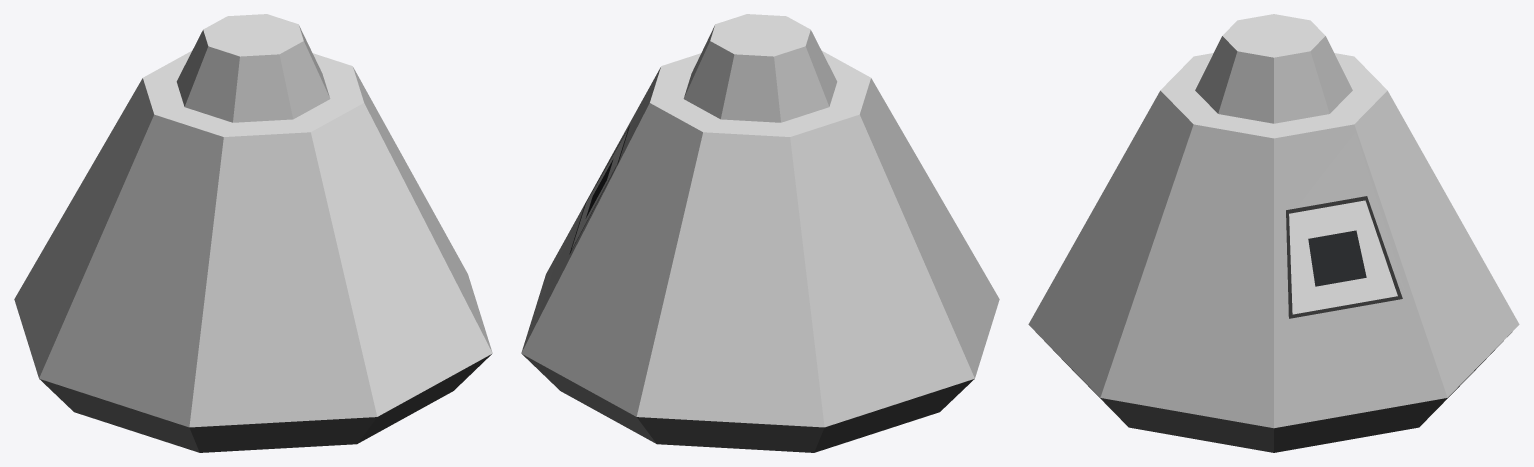
Rendered from SM_Veh_LandingPod_01.fbx.
3 renders of one model, left to right at view 1: azimuth 30°, elevation 25°; view 2: azimuth 150°, elevation 25°; view 3: azimuth 270°, elevation 25°, orthographic.
Visible parts, largest first — view 1: SM_Veh_LandingPod_01; view 2: SM_Veh_LandingPod_01; view 3: SM_Veh_LandingPod_01.
Boxes of the visible parts, <box> form: SM_Veh_LandingPod_01: <box>14,14,492,452</box>; SM_Veh_LandingPod_01: <box>521,14,999,452</box>; SM_Veh_LandingPod_01: <box>1028,14,1519,452</box>.
Size of the model in its own units: 5.07 by 3.76 by 5.07.
